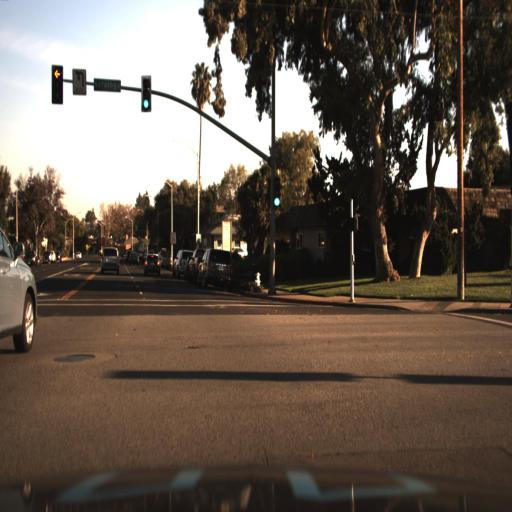car: (0, 201, 40, 424), (1, 214, 38, 364), (196, 245, 236, 294), (186, 244, 204, 283), (100, 243, 121, 273), (186, 247, 202, 285), (170, 246, 187, 281), (140, 250, 162, 277), (142, 252, 163, 279)
trafficLight-Green: (140, 75, 152, 114), (269, 190, 284, 216), (269, 178, 282, 207), (138, 94, 152, 116)
trafficLight-RedLeft: (51, 62, 66, 100), (51, 61, 62, 105)
